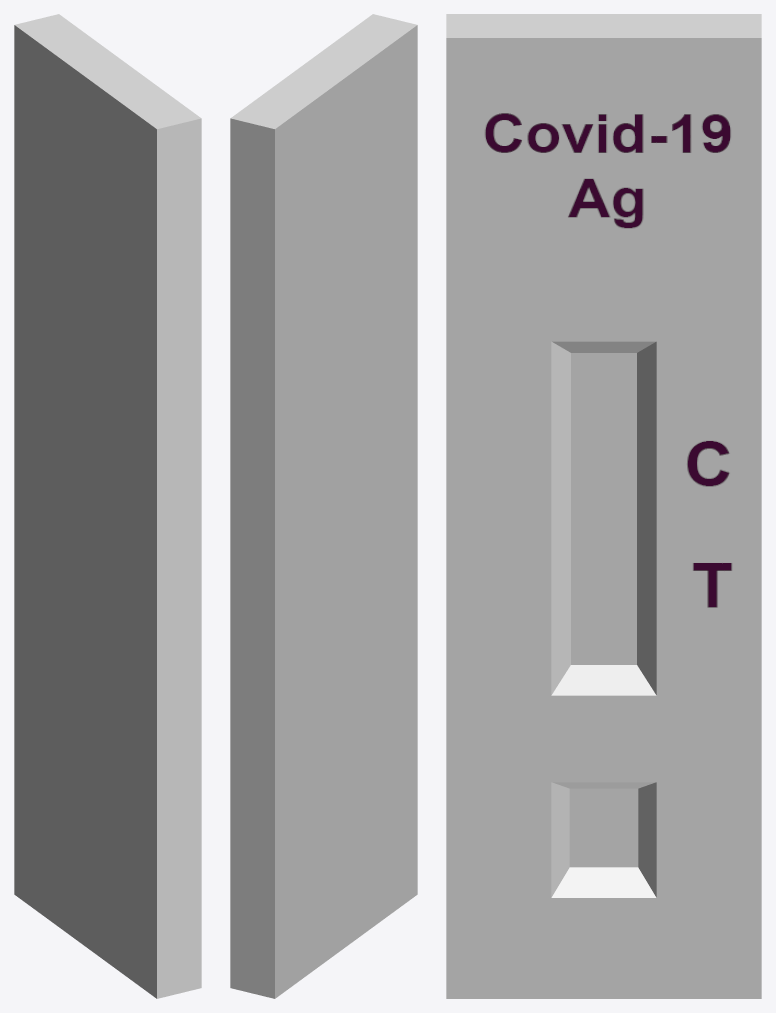
The model's file is covid_test.fbx.
3 renders of one model, left to right at view 1: azimuth 30°, elevation 25°; view 2: azimuth 150°, elevation 25°; view 3: azimuth 270°, elevation 25°, orthographic. The views are drawn at different scales.
Visible parts, largest first — view 1: covid_test; view 2: covid_test; view 3: covid_test.
Part boxes in pixels (<box>): covid_test: <box>14,14,201,998</box>; covid_test: <box>230,14,417,998</box>; covid_test: <box>446,14,761,998</box>.
Size of the model in its own units: 12.18 by 227 by 67.44.
